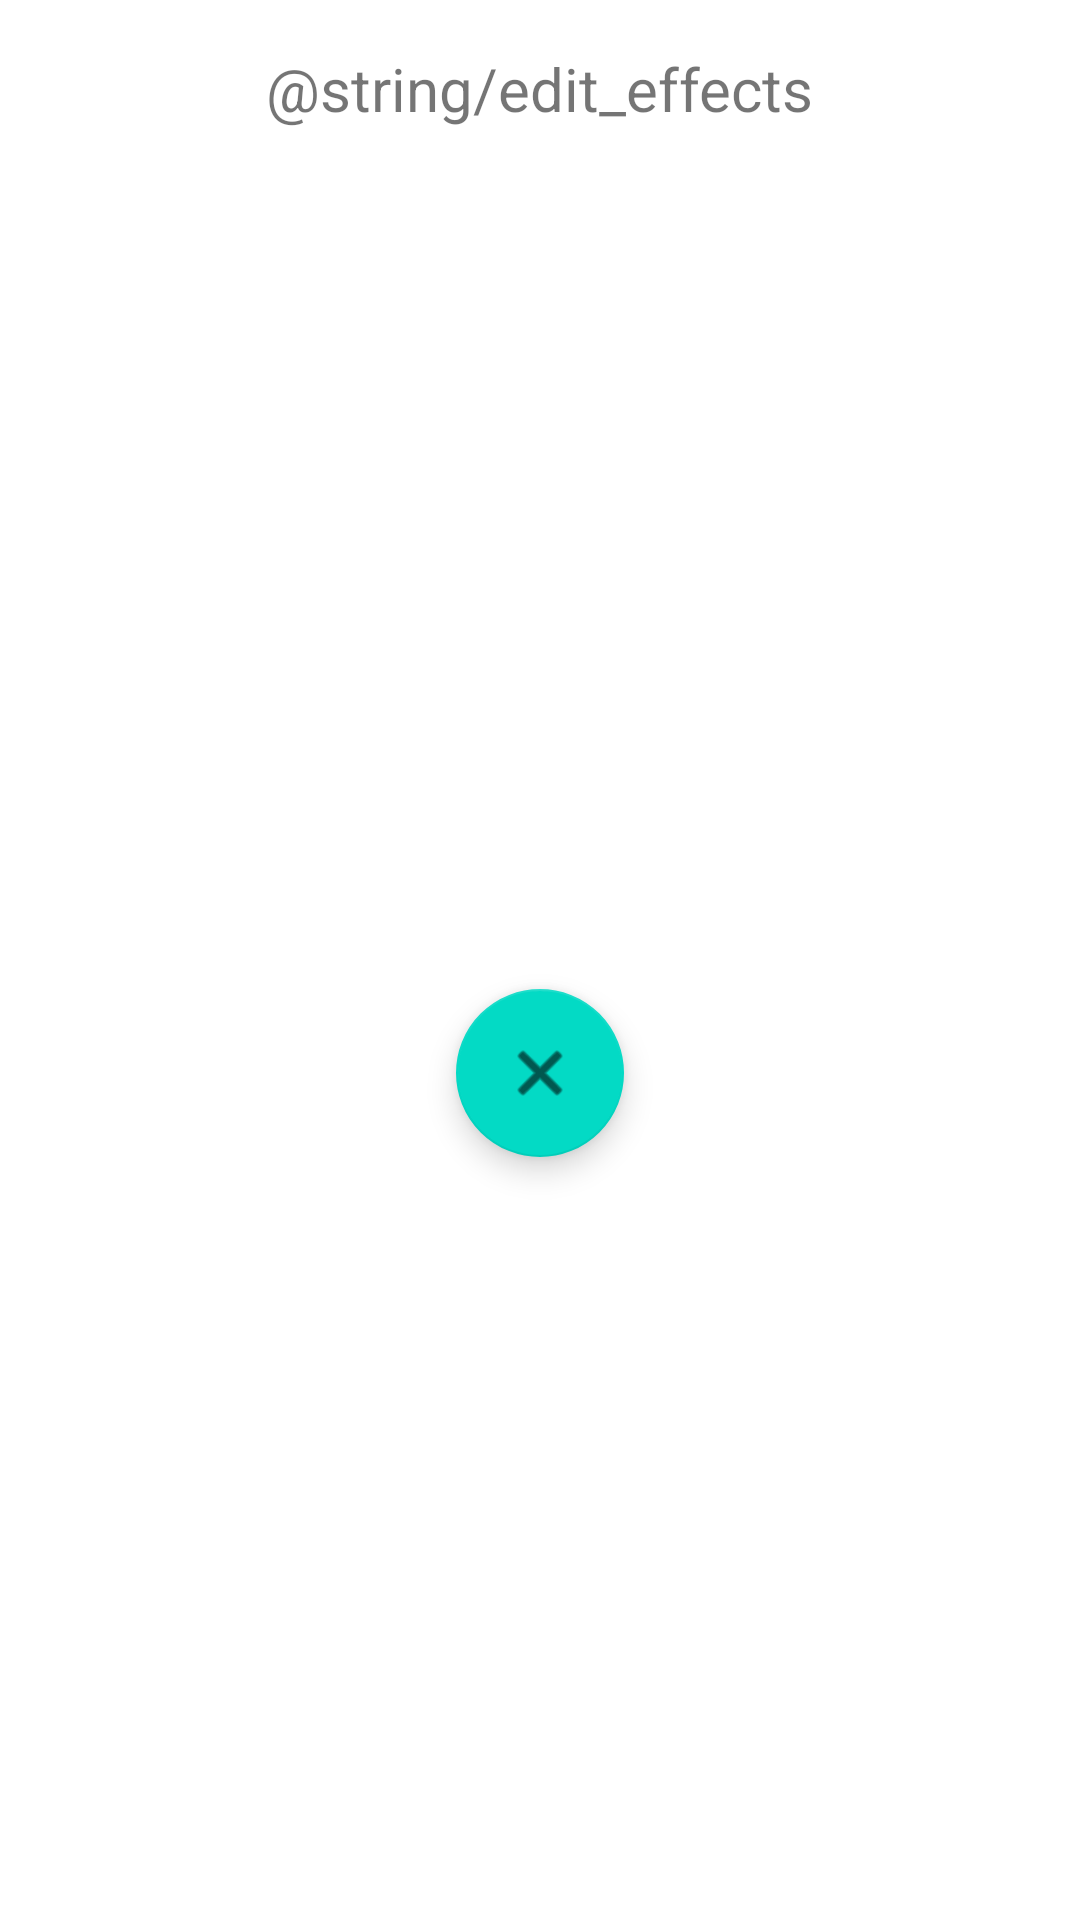

Screen size 1080×1920. Icon name, then its center in pixels as point (x, y):
close clear cancel: point (540, 1073)
